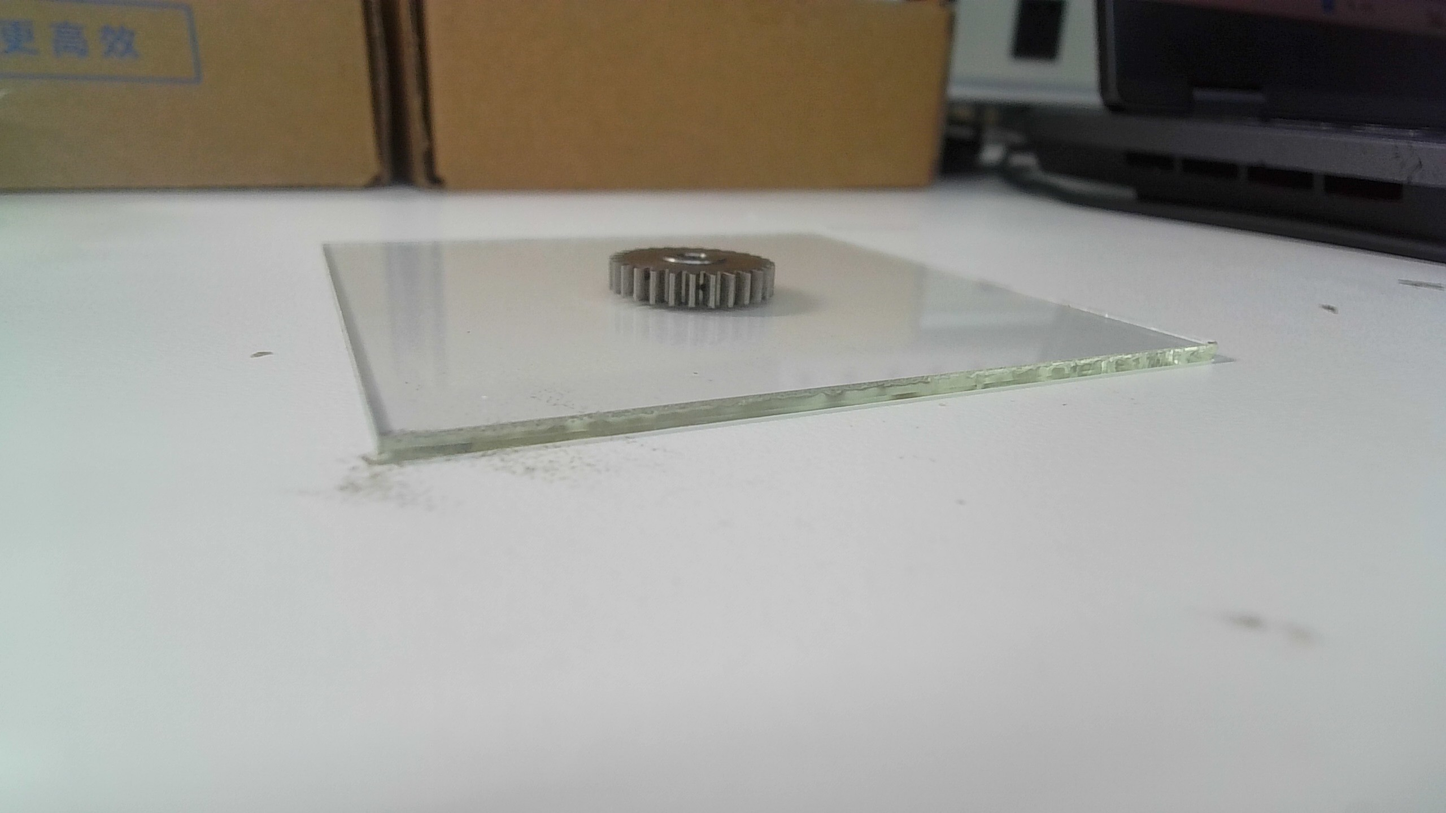gear: (606, 244, 780, 316)
